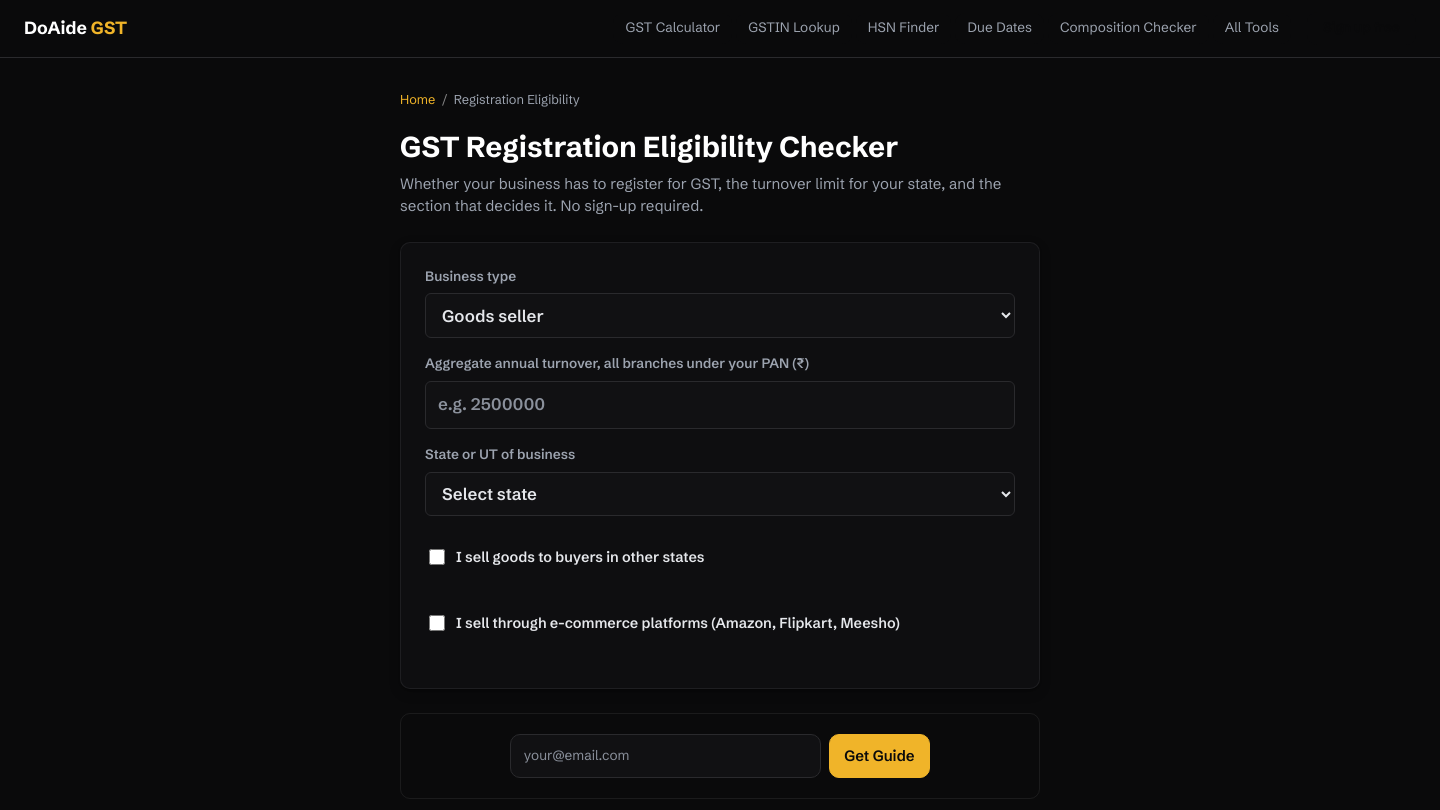
RegistrationCheckerPage › flags a negative turnover instead of giving a verdict
The width and height of the screenshot is (1440, 810).
Select "Delhi" in the dropdown labelled "State or UT of business". click: (720, 494)
box: [425,472,1015,516]
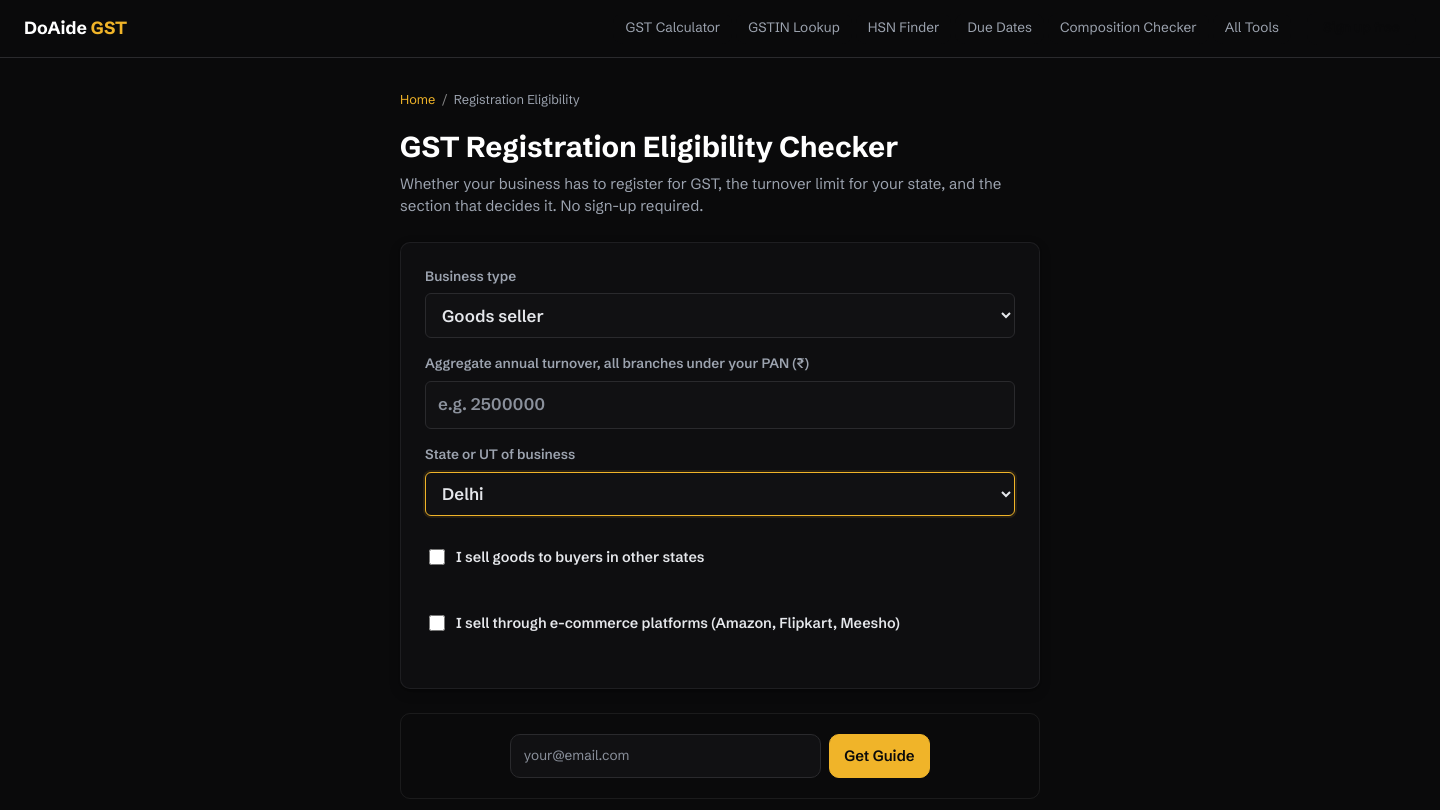
Type "-5" into the number field labelled "Aggregate annual turnover, all branches under your PAN (₹)". click: (720, 405)
box: [425,381,1015,429]
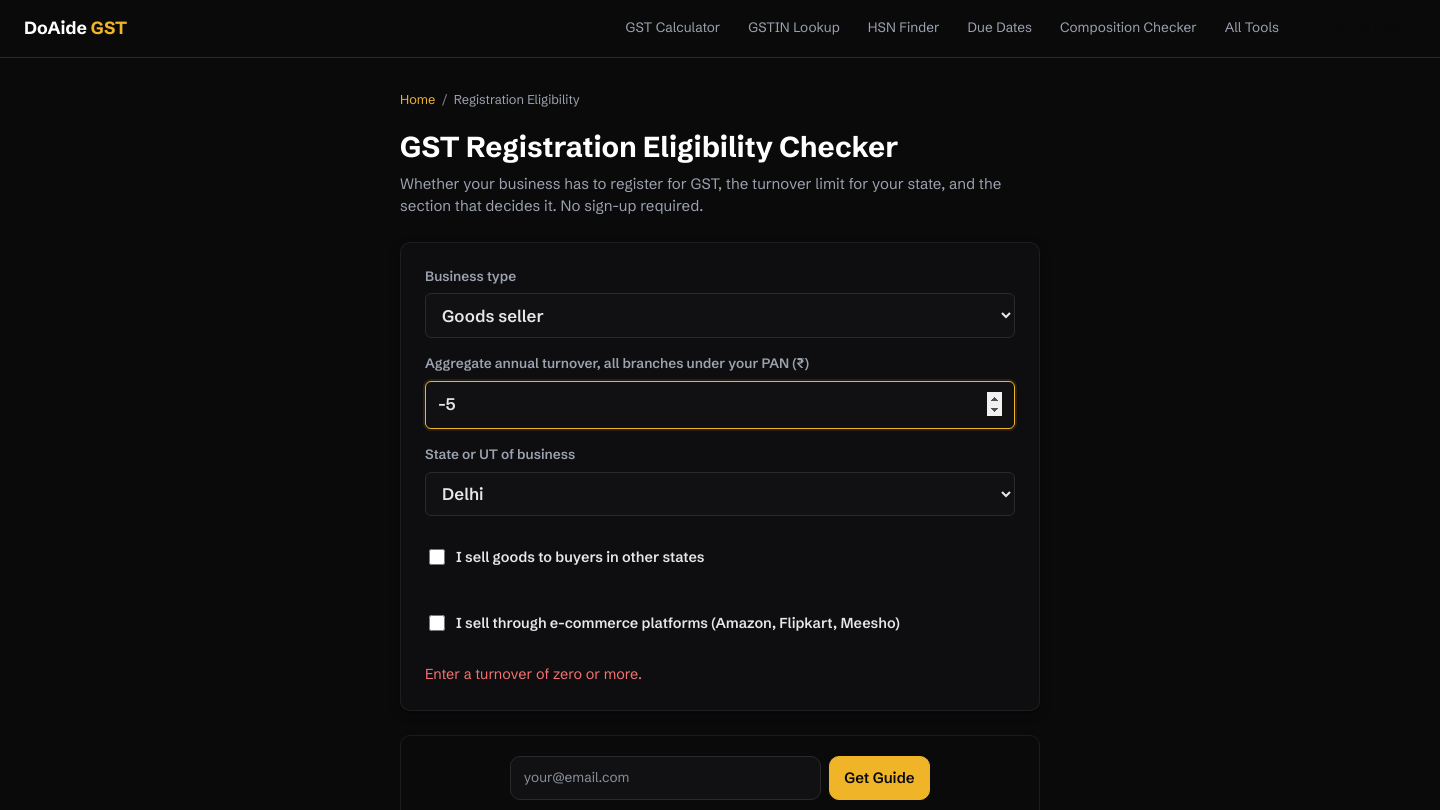
Now the message shows "zero or more", box [425,665,642,683]
